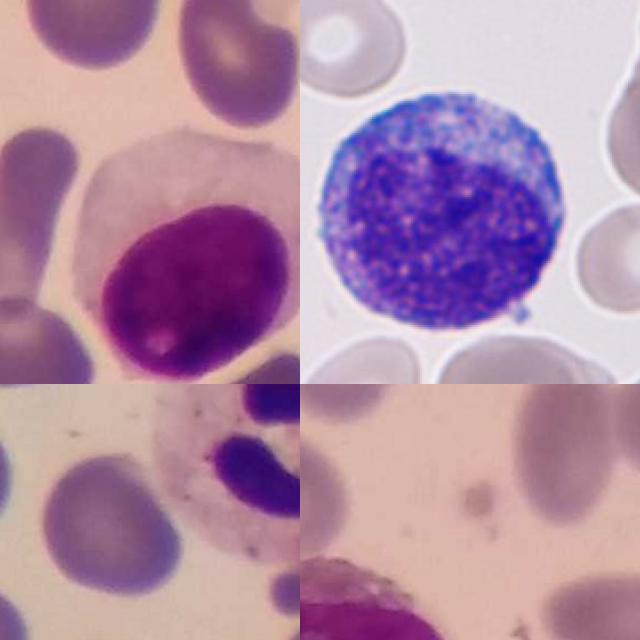Eosinophil: (300, 559, 476, 640)
Lymphocyte: (300, 71, 579, 350), (75, 127, 300, 384)
Neutrophil: (155, 384, 300, 566)
RBC: (300, 0, 411, 99), (429, 326, 587, 384), (571, 190, 640, 318), (300, 328, 430, 384), (599, 69, 640, 200)
